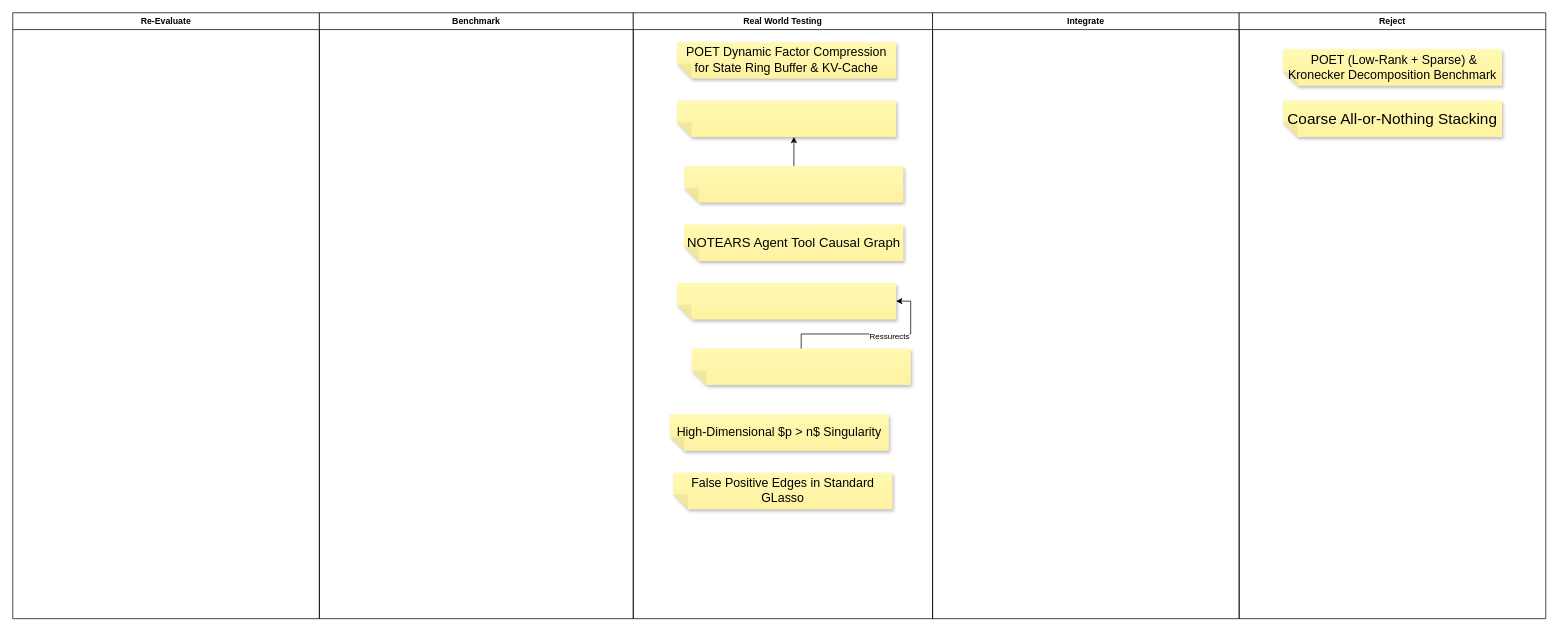
Some shapes in this 1559 by 631 pixel diagram are drawn without their labels. Here are the shapes that lost their labels. From the top down, the centre of each, then its label:
the point at 787,119: Multi-Expert Stacking (Surgical Sparsification)
the point at 794,185: POET Activation Cross-Talk & Interference Covariance
the point at 787,302: Direct Conflict Prediction Between Adapters
the point at 801,367: Latent Variable Graphical Lasso (LV-GLasso
